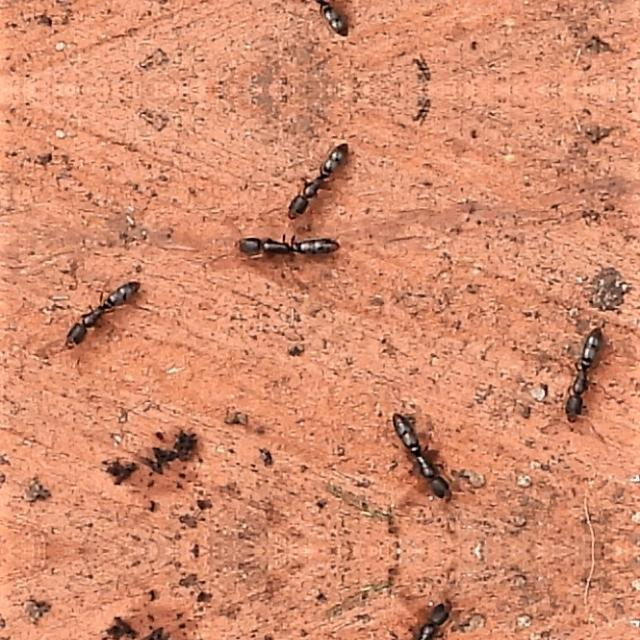Ponera: (42, 254, 160, 378), (540, 295, 612, 441), (394, 406, 482, 522), (277, 142, 365, 225), (222, 224, 370, 270), (394, 578, 482, 640), (277, 0, 365, 34)
